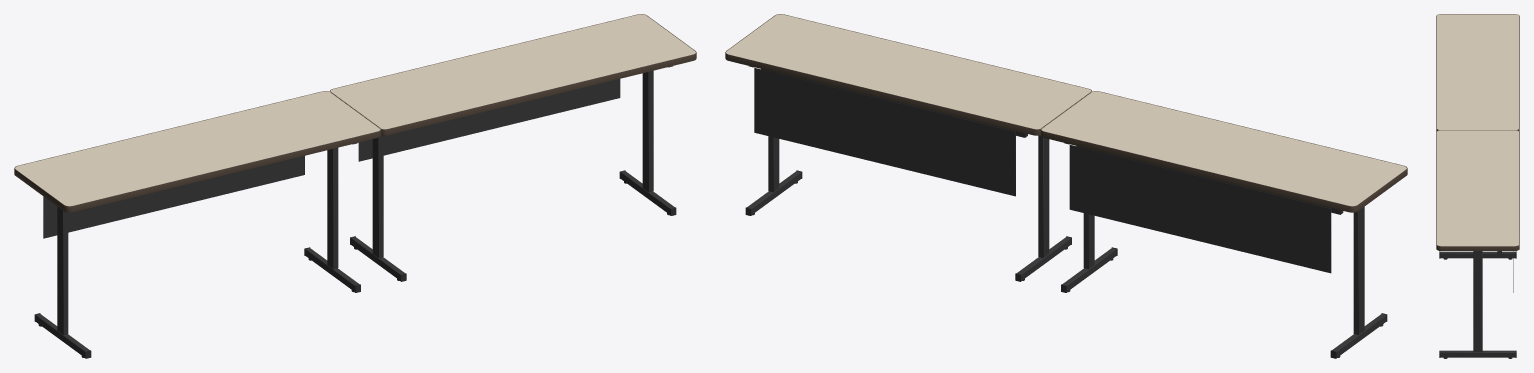
The model's file is Kit_TrainingTable_Row2_Modesty.fbx.
3 renders of one model, left to right at view 1: azimuth 30°, elevation 25°; view 2: azimuth 150°, elevation 25°; view 3: azimuth 270°, elevation 25°, orthographic. The views are drawn at different scales.
Visible parts, largest first — view 1: Kit_TrainingTable_Row2_Modesty_LOD0; view 2: Kit_TrainingTable_Row2_Modesty_LOD0; view 3: Kit_TrainingTable_Row2_Modesty_LOD0.
Boxes of the visible parts, box(x1,y1,x2,y2) form: Kit_TrainingTable_Row2_Modesty_LOD0: box(14, 14, 696, 358); Kit_TrainingTable_Row2_Modesty_LOD0: box(725, 14, 1407, 358); Kit_TrainingTable_Row2_Modesty_LOD0: box(1436, 14, 1519, 358).
Size of what is drawn, in the model's own units: 3.05 by 0.737 by 0.463.
